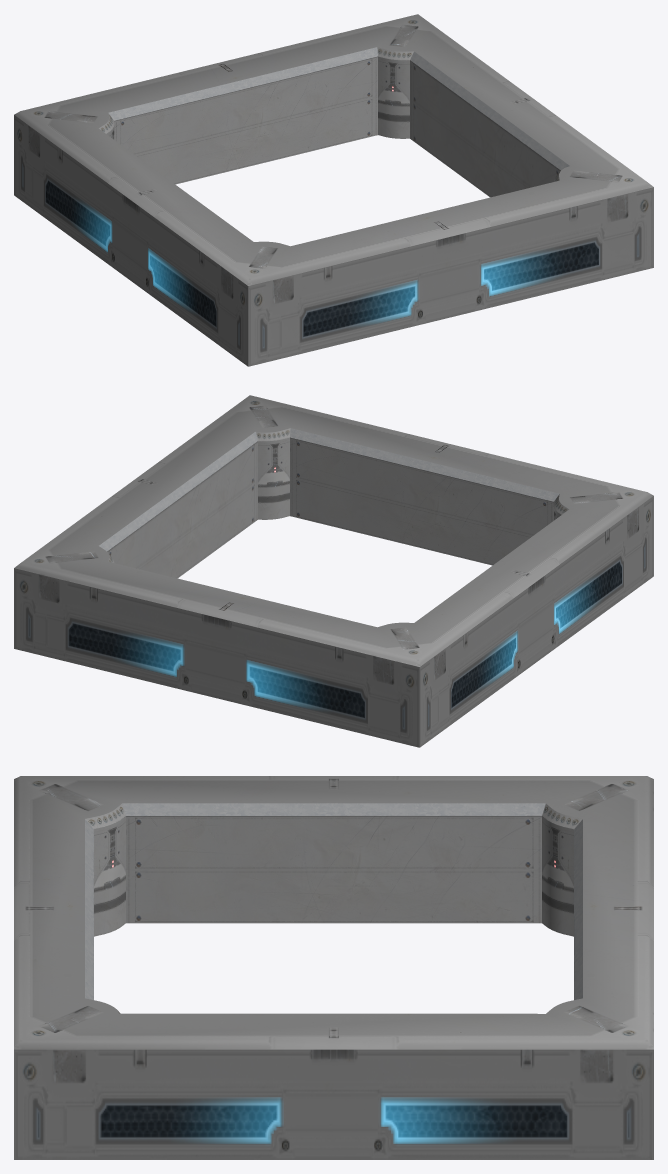
File: SM_GroundFrame2.fbx
3 renders of one model, top to bottom at view 1: azimuth 30°, elevation 25°; view 2: azimuth 150°, elevation 25°; view 3: azimuth 270°, elevation 25°, orthographic. The views are drawn at different scales.
Parts seen in each view (by area): view 1: SM_GroundFrame2_LOD0; view 2: SM_GroundFrame2_LOD0; view 3: SM_GroundFrame2_LOD0.
Part boxes in pixels (x1,y1,x2,y2): SM_GroundFrame2_LOD0: (14,14,653,366); SM_GroundFrame2_LOD0: (14,395,653,747); SM_GroundFrame2_LOD0: (14,776,653,1159).
Size of the model in its own units: 400 by 400 by 80.
Materials: 3 (3 with a texture image).
